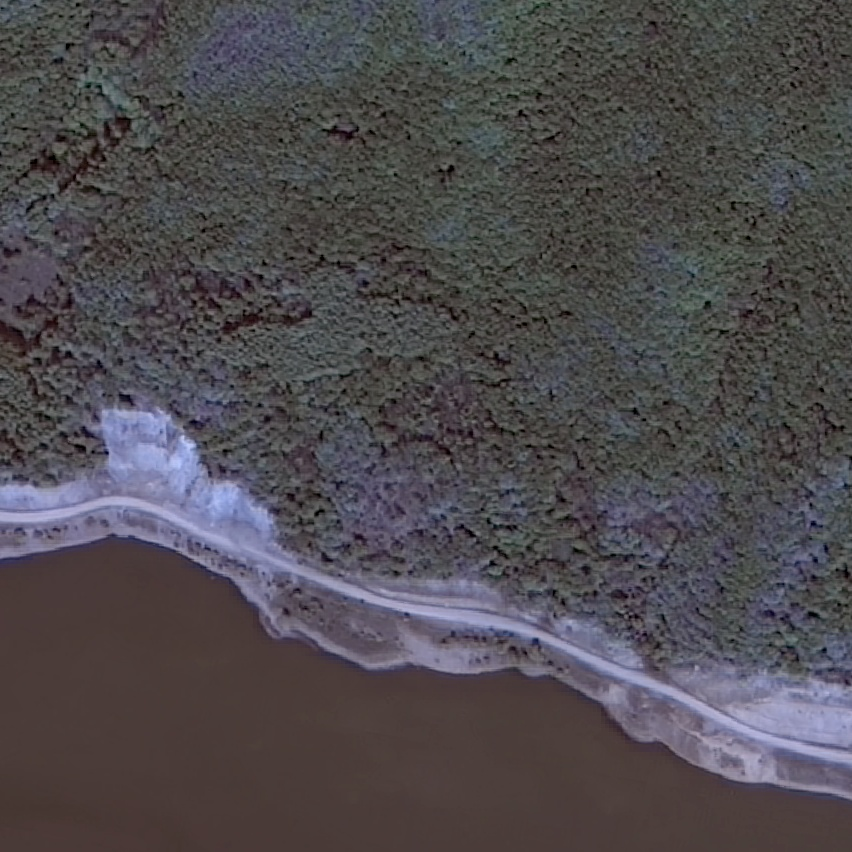slope: (0, 397, 286, 557), (372, 576, 648, 671), (669, 670, 851, 749)
